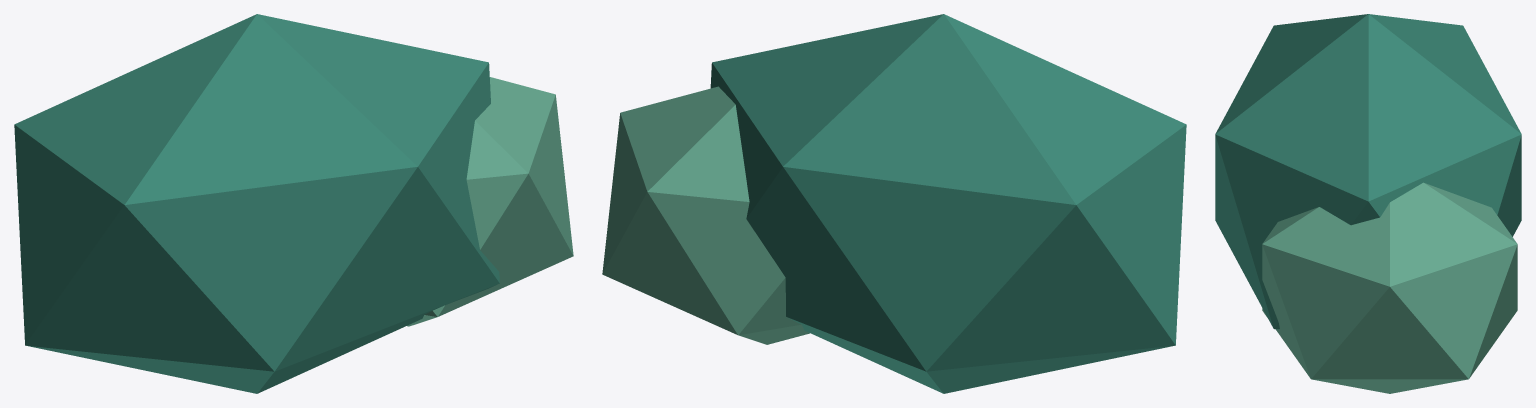
File: SM_ENV_Shrub_001_Urban.glb
The picture shows the model from 3 angles, left to right: view 1: azimuth 30°, elevation 25°; view 2: azimuth 150°, elevation 25°; view 3: azimuth 270°, elevation 25°; orthographic projection. The views are drawn at different scales.
Parts seen in each view (by area): view 1: SM_ENV_Shrub_001_Urban; view 2: SM_ENV_Shrub_001_Urban; view 3: SM_ENV_Shrub_001_Urban.
Part boxes in pixels (x1=…): SM_ENV_Shrub_001_Urban: x1=14, y1=14, x2=573, y2=393; SM_ENV_Shrub_001_Urban: x1=602, y1=14, x2=1186, y2=393; SM_ENV_Shrub_001_Urban: x1=1215, y1=14, x2=1521, y2=393.
Bounding box in the file's own units: 1.26 × 0.84 × 0.7145.
